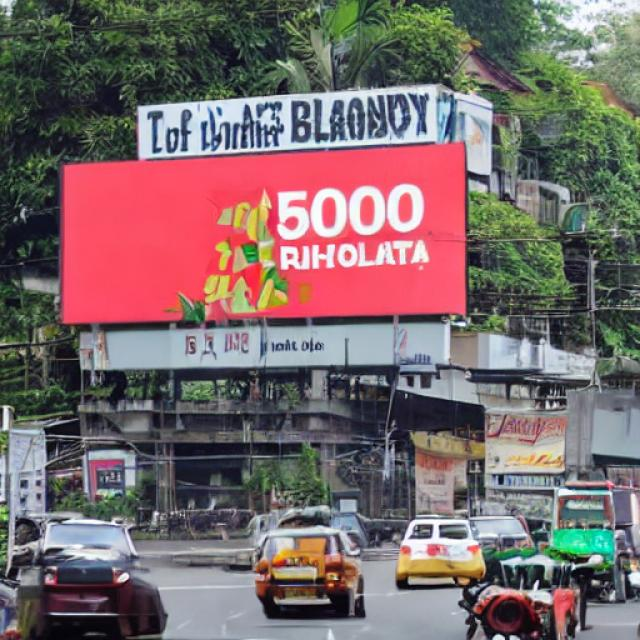Billboard: (55, 140, 472, 328)
